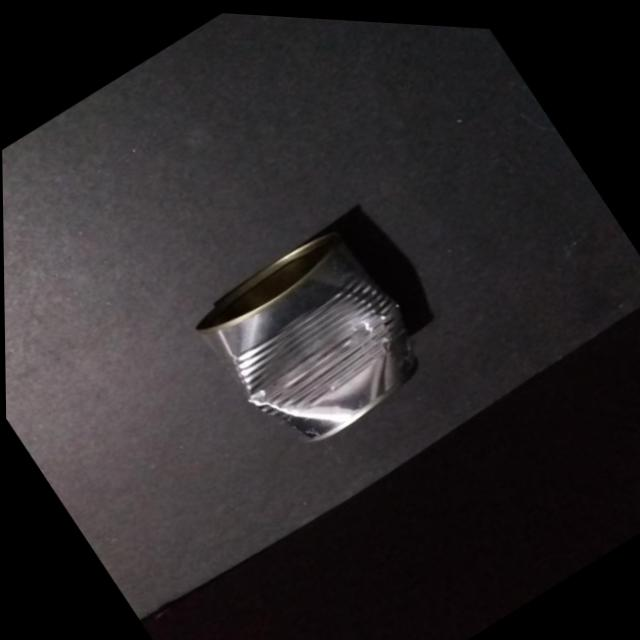metal: (197, 206, 432, 437)
